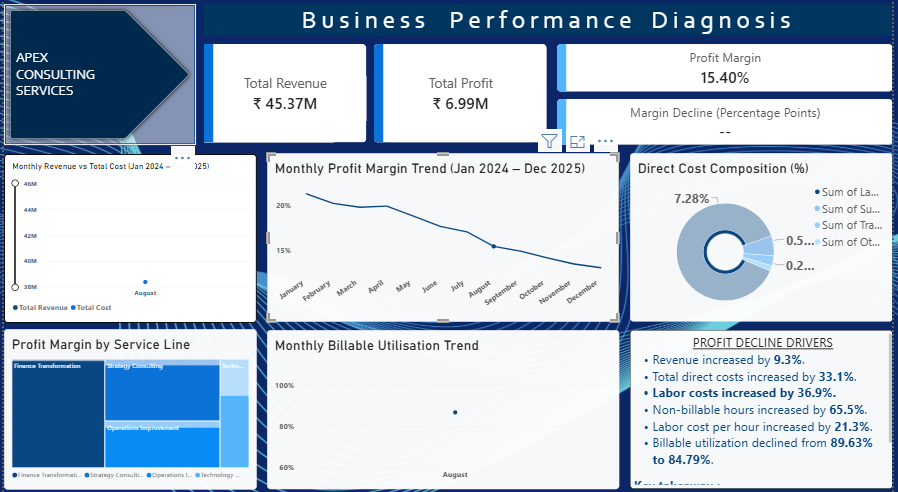

Layout of this report page (visuals, bound fields, positions):
{"tool":"powerbi","page":{"name":"Page 1","canvas":[1920,1080],"ordinal":0},"visuals":[{"type":"cardVisual","title":"Total Revenue","fields":{"Data":["Raw_Data.Total Revenue"]},"box":[432,86.4,373.7,250.6],"z":0},{"type":"cardVisual","title":"Total Profit","fields":{"Data":["Raw_Data.Total Profit"]},"box":[799.2,86.4,395.3,250.6],"z":1000},{"type":"cardVisual","title":"Profit Margin","fields":{"Data":["Raw_Data.Profit Margin"]},"box":[1194.5,86.4,725.8,118.8],"z":2000},{"type":"cardVisual","title":"Margin Decline (Percentage Points)","fields":{"Data":["Raw_Data.Margin Decline (pp)"]},"box":[1194.5,205.2,725.8,114.5],"z":3000},{"type":"lineChart","title":"Monthly Revenue vs Total Cost (Jan 2024 – Dec 2025)","fields":{"Category":["Raw_Data.Month.Variation.Date Hierarchy.Month"],"Y":["Raw_Data.Total Revenue","Raw_Data.Total Cost"]},"box":[0,339.1,546.5,365],"z":4000},{"type":"lineChart","title":"Monthly Profit Margin Trend (Jan 2024 – Dec 2025)","fields":{"Category":["Raw_Data.Month.Variation.Date Hierarchy.Month"],"Y":["Raw_Data.Profit Margin"]},"box":[567.6,338,761.1,363.5],"z":5000},{"type":"treemap","title":"Profit Margin by Service Line","fields":{"Group":["Raw_Data.Service_Line"],"Values":["Raw_Data.Profit Margin"]},"box":[0,716.5,546.4,346.5],"z":6000},{"type":"donutChart","title":"Direct Cost Composition (%)","fields":{"Y":["Sum(Raw_Data.Labor_Cost_INR)","Sum(Raw_Data.Subcontractor_Cost_INR)","Sum(Raw_Data.Travel_Cost_INR)","Sum(Raw_Data.Other_Direct_Cost_INR)"]},"box":[1352.1,338,567.6,363.5],"z":7000},{"type":"stackedAreaChart","title":"Monthly Billable Utilisation Trend","fields":{"Category":["Raw_Data.Month.Variation.Date Hierarchy.Month"],"Y":["Raw_Data.Billable Utilisation"]},"box":[567.6,718.6,761.1,344.4],"z":8000},{"type":"textbox","box":[1352.2,719.3,568.1,343.4],"z":9000},{"type":"actionButton","box":[0,15.1,414.7,304.6],"z":10000},{"type":"textbox","box":[432,15.1,1488.2,69.1],"z":11000}]}

Visuals, with their boxes in screenshot pixels (x1, y1, x2, y2), scaled from the page's 1920x1080 canvas onto the 898x492 screenshot:
"Total Revenue" cardVisual: bbox(202, 39, 377, 154)
"Total Profit" cardVisual: bbox(374, 39, 559, 154)
"Profit Margin" cardVisual: bbox(559, 39, 897, 93)
"Margin Decline (Percentage Points)" cardVisual: bbox(559, 93, 897, 146)
"Monthly Revenue vs Total Cost (Jan 2024 – Dec 2025)" lineChart: bbox(0, 154, 256, 321)
"Monthly Profit Margin Trend (Jan 2024 – Dec 2025)" lineChart: bbox(265, 154, 621, 320)
"Profit Margin by Service Line" treemap: bbox(0, 326, 256, 484)
"Direct Cost Composition (%)" donutChart: bbox(632, 154, 897, 320)
"Monthly Billable Utilisation Trend" stackedAreaChart: bbox(265, 327, 621, 484)
textbox: bbox(632, 328, 897, 484)
actionButton: bbox(0, 7, 194, 146)
textbox: bbox(202, 7, 897, 38)
